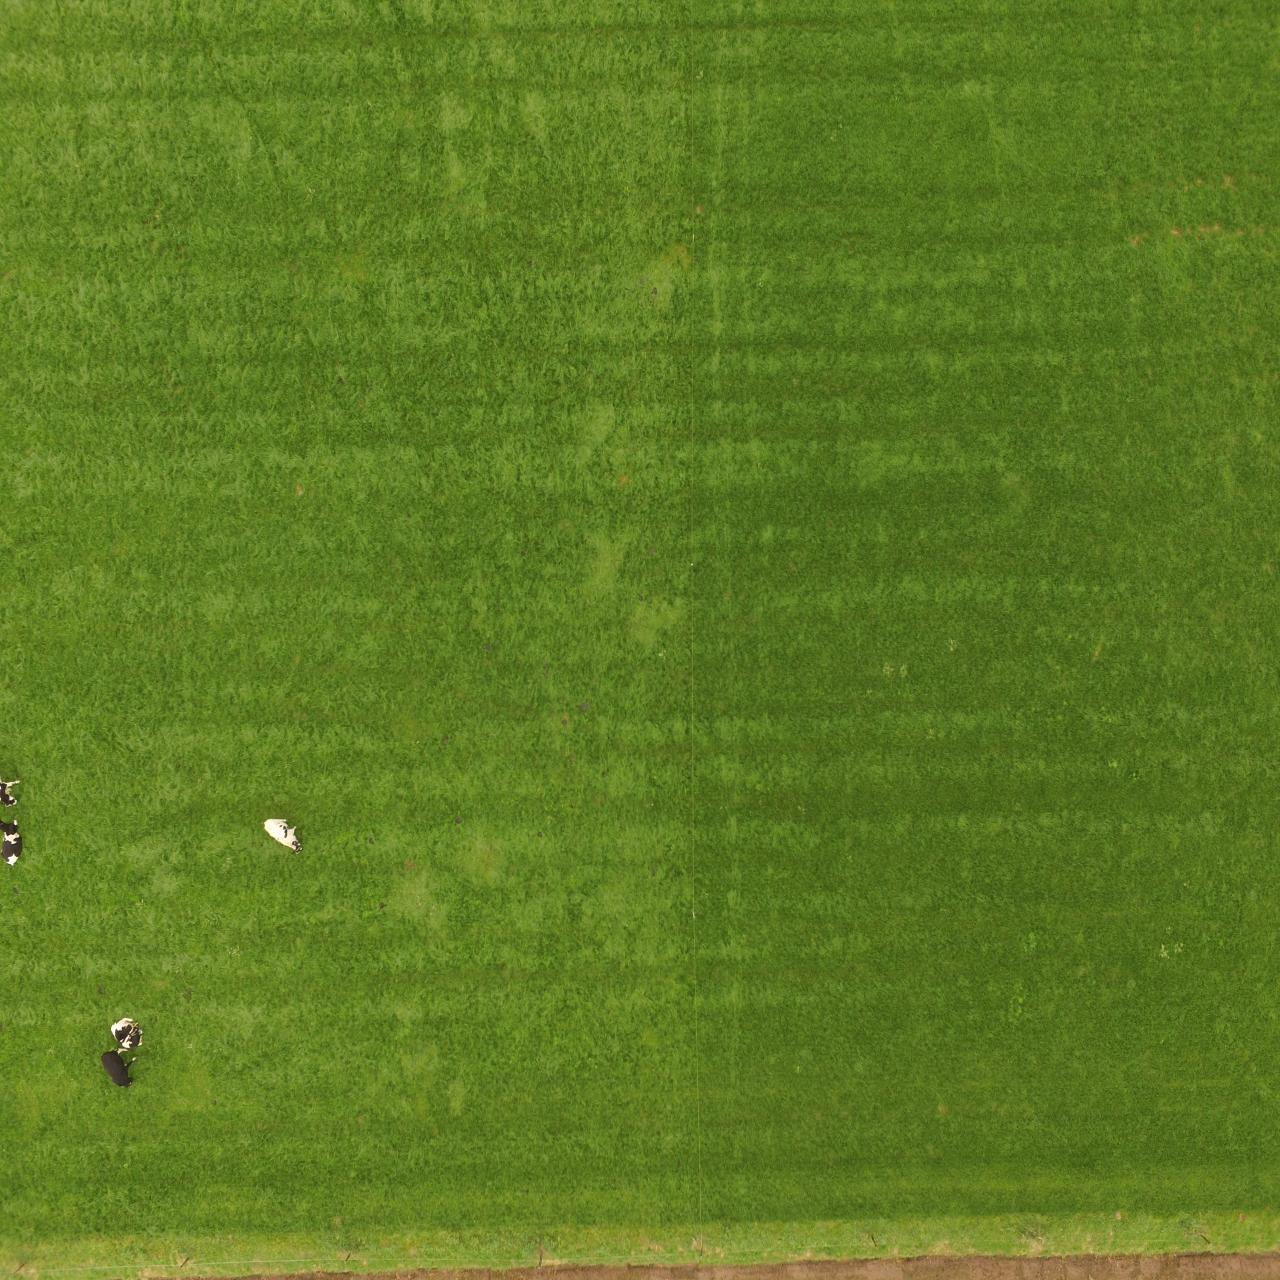cow: (95, 1050, 138, 1090), (263, 815, 305, 853), (107, 1014, 149, 1049)
